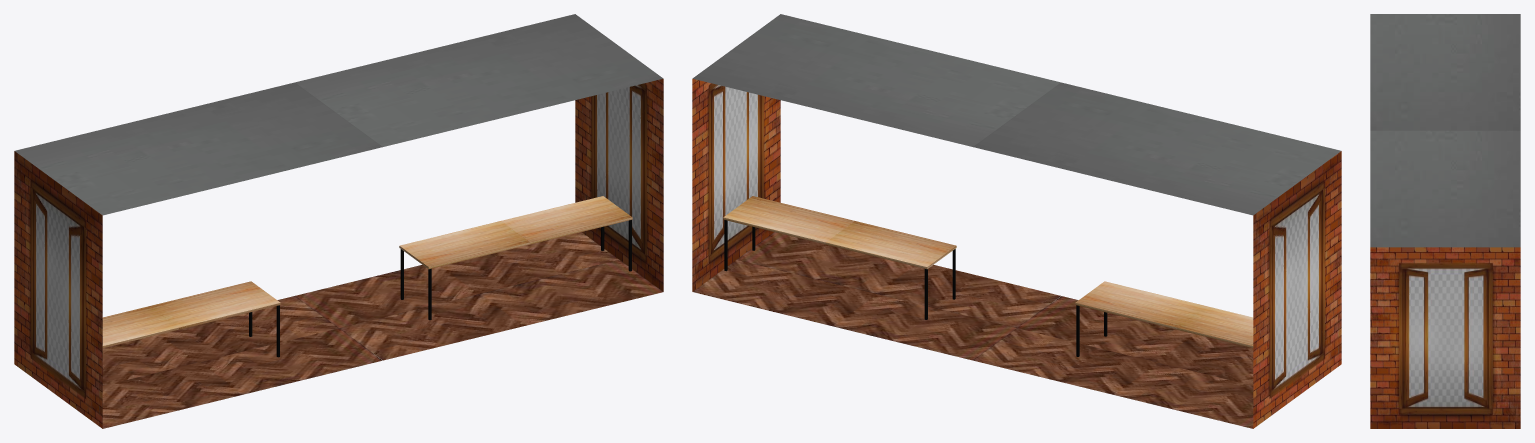
The model's file is room.obj.
The picture shows the model from 3 angles, left to right: view 1: azimuth 30°, elevation 25°; view 2: azimuth 150°, elevation 25°; view 3: azimuth 270°, elevation 25°; orthographic projection. The views are drawn at different scales.
Visible parts, largest first — view 1: Cube, tableTop_Cube.001, tableTop.001_Cube.010; view 2: Cube, tableTop_Cube.001, tableTop.001_Cube.010; view 3: Cube.
Part boxes in pixels (x1=…): Cube: x1=14, y1=14, x2=663, y2=428; tableTop_Cube.001: x1=399, y1=196, x2=632, y2=269; tableTop.001_Cube.010: x1=102, y1=281, x2=280, y2=348; Cube: x1=692, y1=14, x2=1341, y2=428; tableTop_Cube.001: x1=723, y1=196, x2=956, y2=269; tableTop.001_Cube.010: x1=1075, y1=281, x2=1253, y2=348; Cube: x1=1370, y1=14, x2=1520, y2=428.
Size of the model in its own units: 22 by 8 by 6.
Materials: 11 (4 with a texture image).
